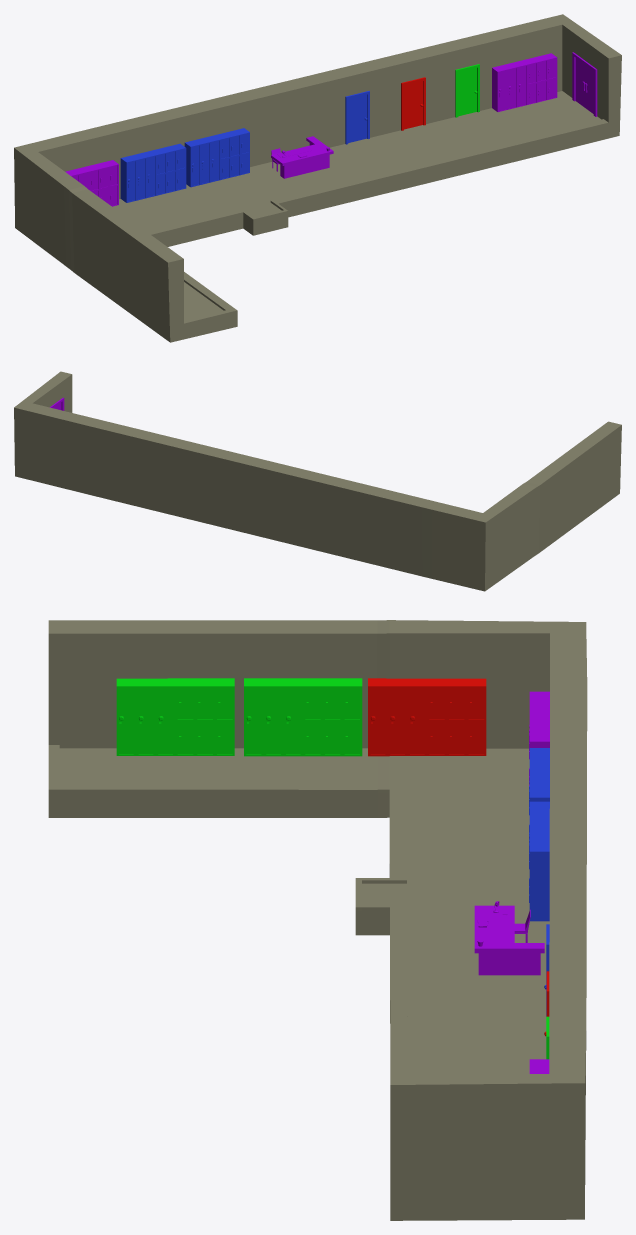
File: TesteTexturas_Corredor.fbx
The picture shows the model from 3 angles, top to bottom: view 1: azimuth 30°, elevation 25°; view 2: azimuth 150°, elevation 25°; view 3: azimuth 270°, elevation 25°; orthographic projection. The views are drawn at different scales.
Visible parts, largest first — view 1: Corredor, AssetsEscola, AssetsEscola_Azul, AssetsEscola_Vermelho, AssetsEscola_Verde; view 2: Corredor; view 3: Corredor, AssetsEscola_Verde, AssetsEscola_Vermelho, AssetsEscola, AssetsEscola_Azul.
Part boxes in pixels (x1,y1,x2,y2): Corredor: (14,14,621,342); AssetsEscola: (65,52,597,206); AssetsEscola_Azul: (120,91,369,202); AssetsEscola_Vermelho: (401,77,425,130); AssetsEscola_Verde: (455,64,479,117); Corredor: (14,371,621,591); Corredor: (48,620,587,1220); AssetsEscola_Verde: (116,678,549,1059); AssetsEscola_Vermelho: (368,678,549,1036); AssetsEscola: (474,691,549,1073); AssetsEscola_Azul: (529,748,549,1016).
Bounding box in the file's own units: 2839 × 398 × 1391.
